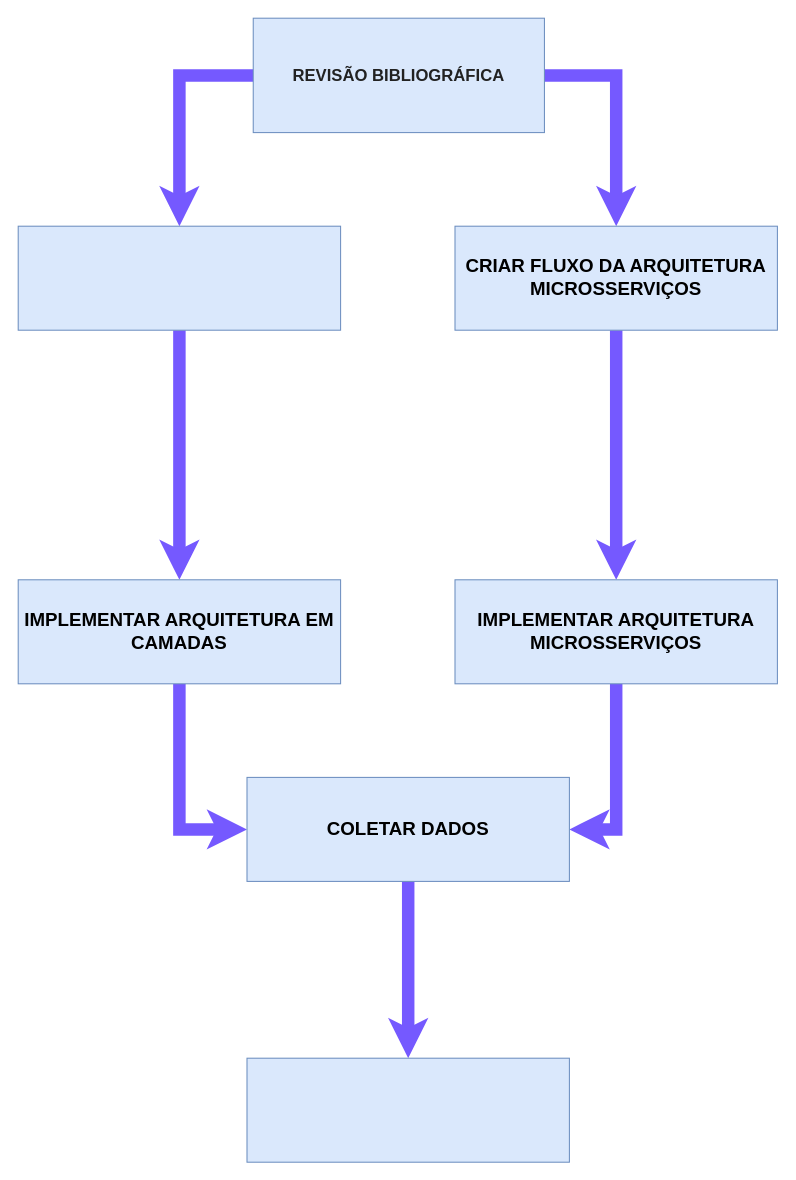
Some shapes in this 796 by 1180 pixel diagram are drawn without their labels. The shapes that lost their labels are listed below. From the top down, each one's centre as x and y in pixels, then its label:
point 179,277: CRIAR FLUXO DA ARQUITETURA EM CAMADAS
point 407,1109: CONCLUSÃO DAS INFORMAÇÕES
